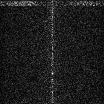wifi: (1, 1, 104, 6)
